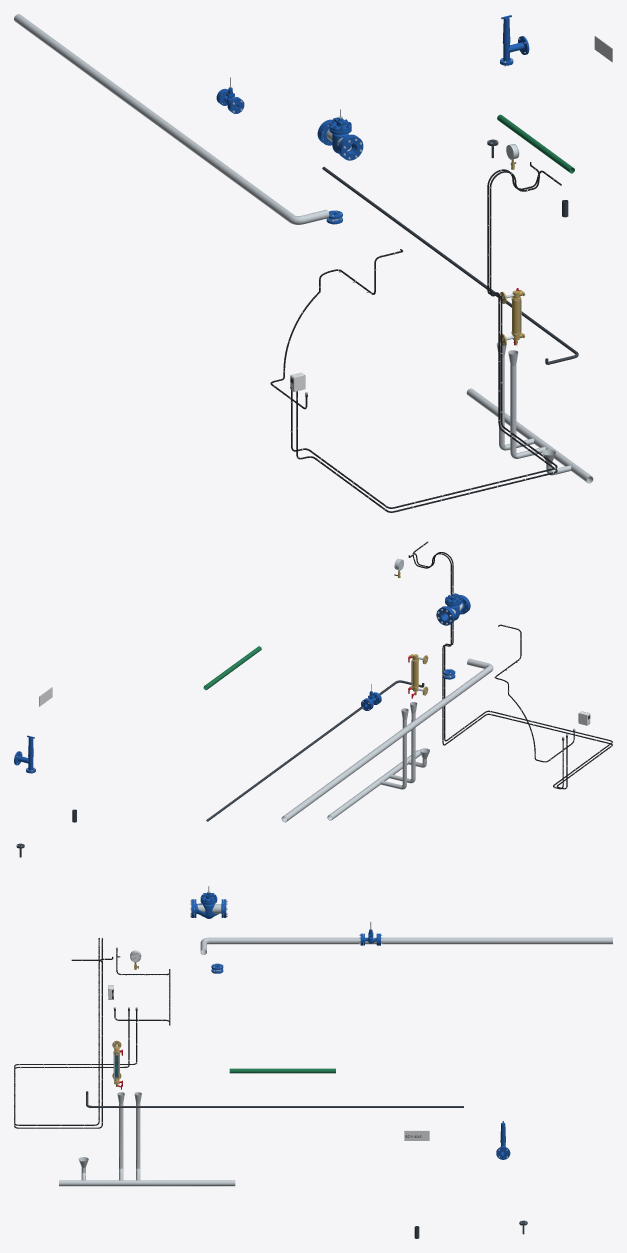
The picture shows the model from 3 angles, top to bottom: view 1: azimuth 30°, elevation 25°; view 2: azimuth 150°, elevation 25°; view 3: azimuth 270°, elevation 25°; orthographic projection. The views are drawn at different scales.
Parts seen in each view (by area): view 1: safety_vent_2 / steel, local_open_drains / steel, wiring_pressure_transmitter / black, wiring_pressure_switch_1 / black, tds_common / dark, gpz CAD solid 0, sight_glasses_1 / sight_glasses_1_0.npz, wiring_high_level / black; view 2: safety_vent_2 / steel, local_open_drains / steel, wiring_pressure_switch_1 / black, wiring_pressure_transmitter / black, tds_common / dark, sight_glasses_1 / sight_glasses_1_0.npz, gpz CAD solid 0; view 3: safety_vent_2 / steel, local_open_drains / steel, wiring_pressure_transmitter / black, wiring_pressure_switch_1 / black, tds_common / dark, pump_delivery / green, gpz CAD solid 0.
Part boxes in pixels (x1,y1,x2,y2): safety_vent_2 / steel: (14, 14, 329, 224); local_open_drains / steel: (466, 342, 593, 483); wiring_pressure_transmitter / black: (291, 162, 557, 508); wiring_pressure_switch_1 / black: (296, 169, 561, 512); tds_common / dark: (322, 167, 578, 364); gpz CAD solid 0: (319, 109, 356, 156); sight_glasses_1 / sight_glasses_1_0.npz: (500, 288, 525, 345); wiring_high_level / black: (270, 249, 403, 409); safety_vent_2 / steel: (281, 658, 493, 822); local_open_drains / steel: (327, 702, 429, 820); wiring_pressure_switch_1 / black: (412, 541, 612, 789); wiring_pressure_transmitter / black: (408, 552, 612, 789); tds_common / dark: (206, 680, 424, 821); sight_glasses_1 / sight_glasses_1_0.npz: (408, 654, 428, 698); gpz CAD solid 0: (442, 587, 469, 622); safety_vent_2 / steel: (200, 937, 612, 954); local_open_drains / steel: (59, 1092, 235, 1186); wiring_pressure_transmitter / black: (14, 938, 137, 1125); wiring_pressure_switch_1 / black: (14, 938, 129, 1128); tds_common / dark: (86, 1091, 463, 1107); pump_delivery / green: (229, 1068, 335, 1073); gpz CAD solid 0: (194, 886, 223, 918).
Size of the model in its own units: 5.19 by 3.2 by 7.03.
